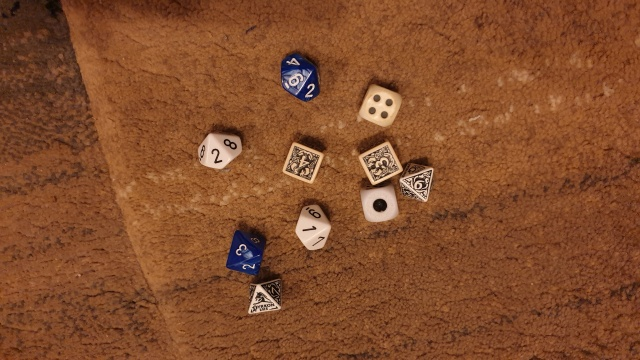d10-1: (290, 202, 330, 254)
d10-2: (193, 129, 242, 171)
d10-3: (221, 226, 265, 281)
d10-6: (278, 46, 319, 109)
d6-1: (359, 184, 399, 224)
d6-4: (354, 81, 404, 134)
d6p-3: (351, 137, 401, 185)
d6p-4: (279, 141, 321, 185)
d8p-1: (242, 279, 287, 316)
d8p-6: (400, 159, 436, 207)
